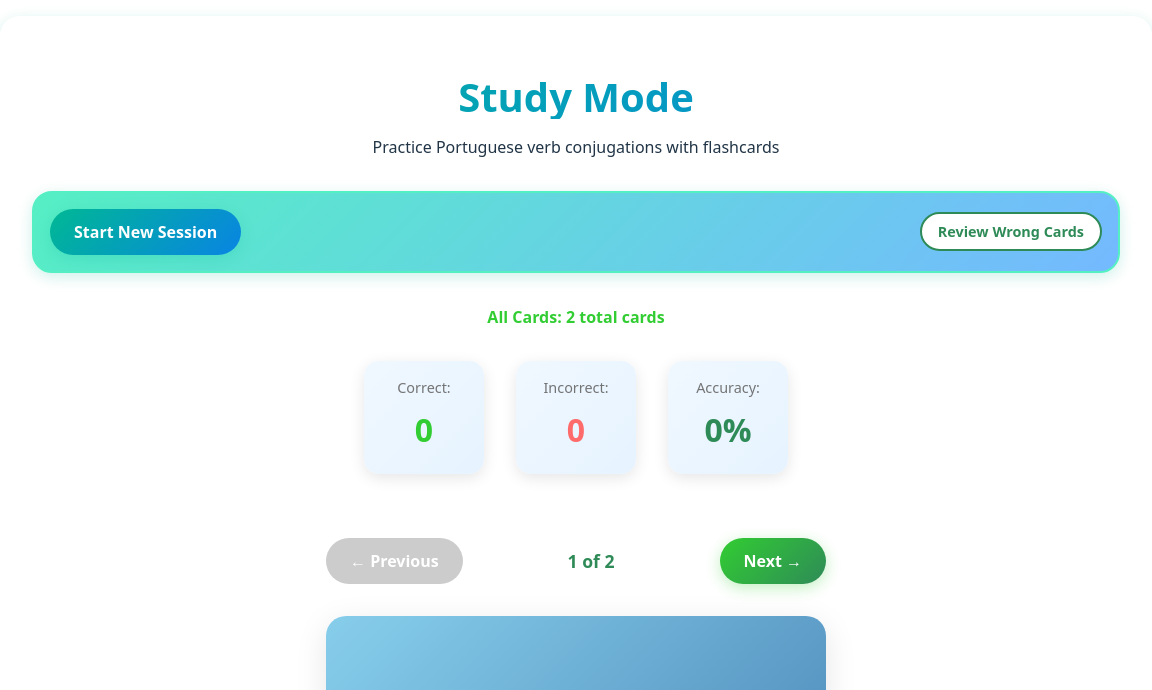
Test: Study Page › Navigation › handles navigation edge cases
Check: the button "← Previous" is disabled, box 326,538 -> 463,584
// Navigate to next card
Click the button "Next →".
click(773, 561)  # box 720,538 -> 826,584
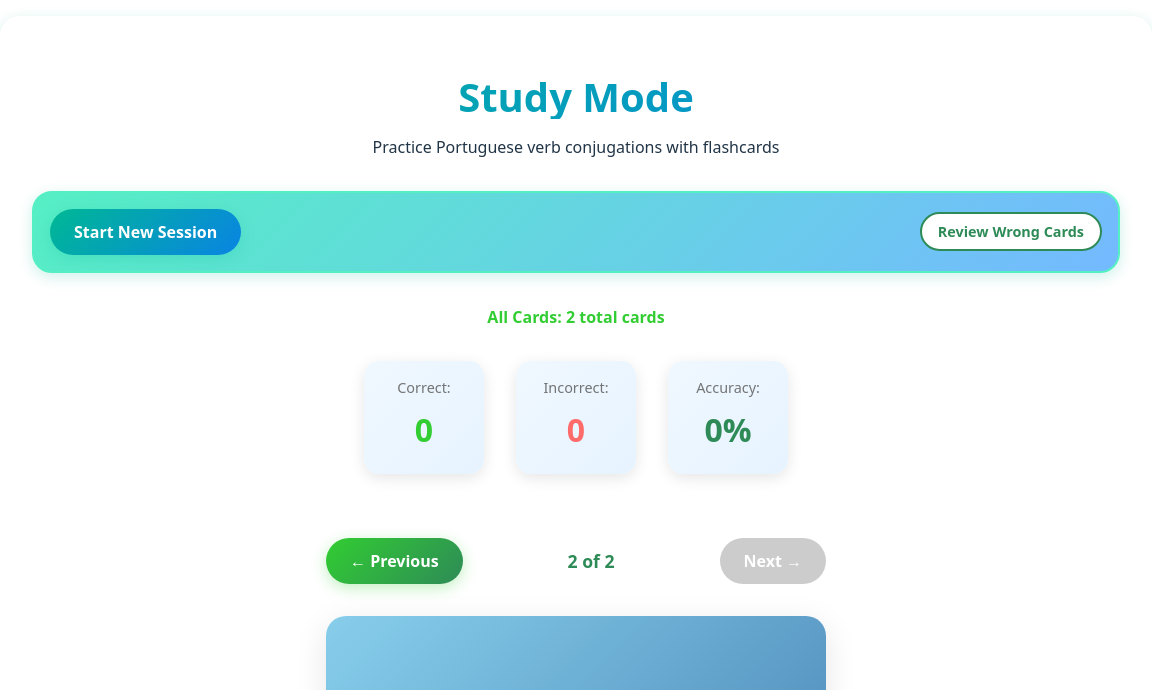
// Navigate back to first card
Click the button "← Previous".
click(394, 561)  # box 326,538 -> 463,584
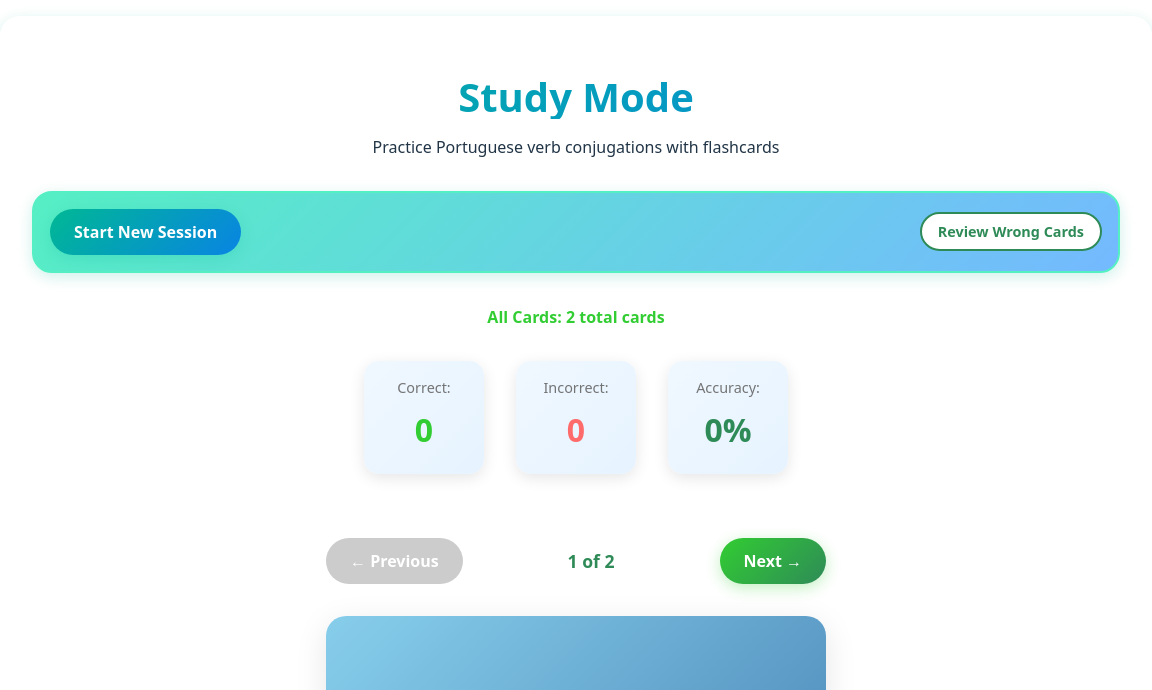
Check: the text "1 of 2" is shown, box 568,548 -> 615,575
